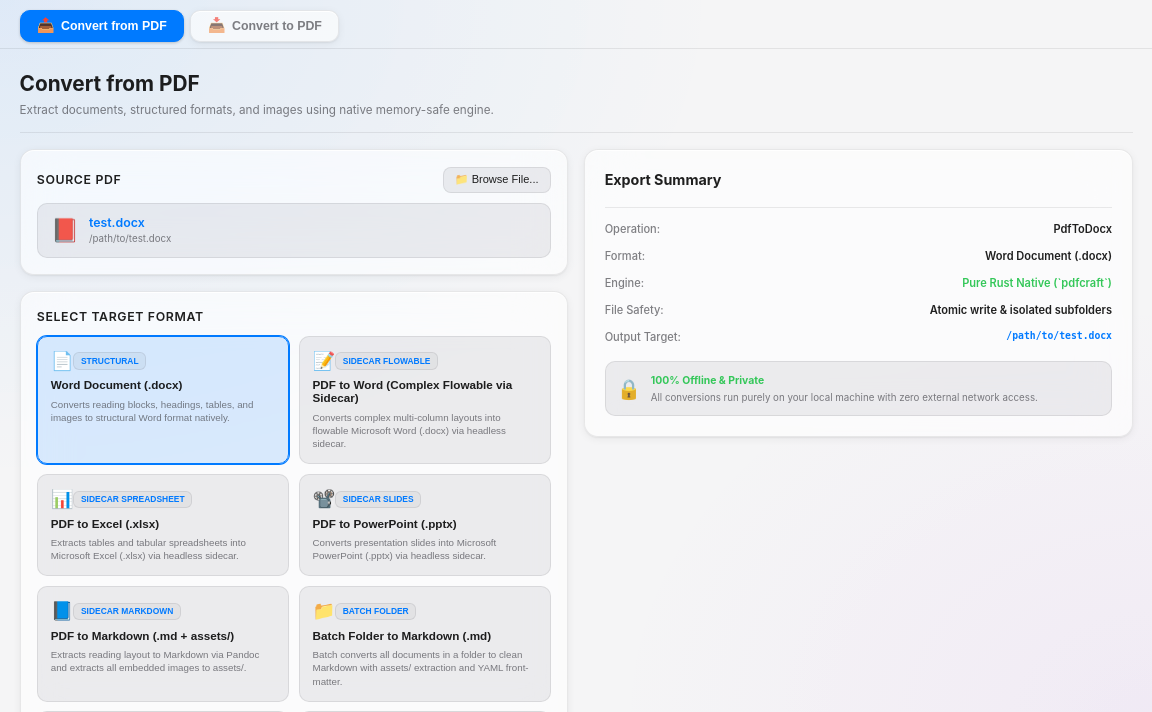
Test case: ConvertView tab container › switches tabs on click
The image size is (1152, 712).
What coordinates should you click on to do the following:
click the tab "📥 Convert to PDF"
I would click on:
 (265, 26)
Its box is [190,10,339,42].
(page scrolled)
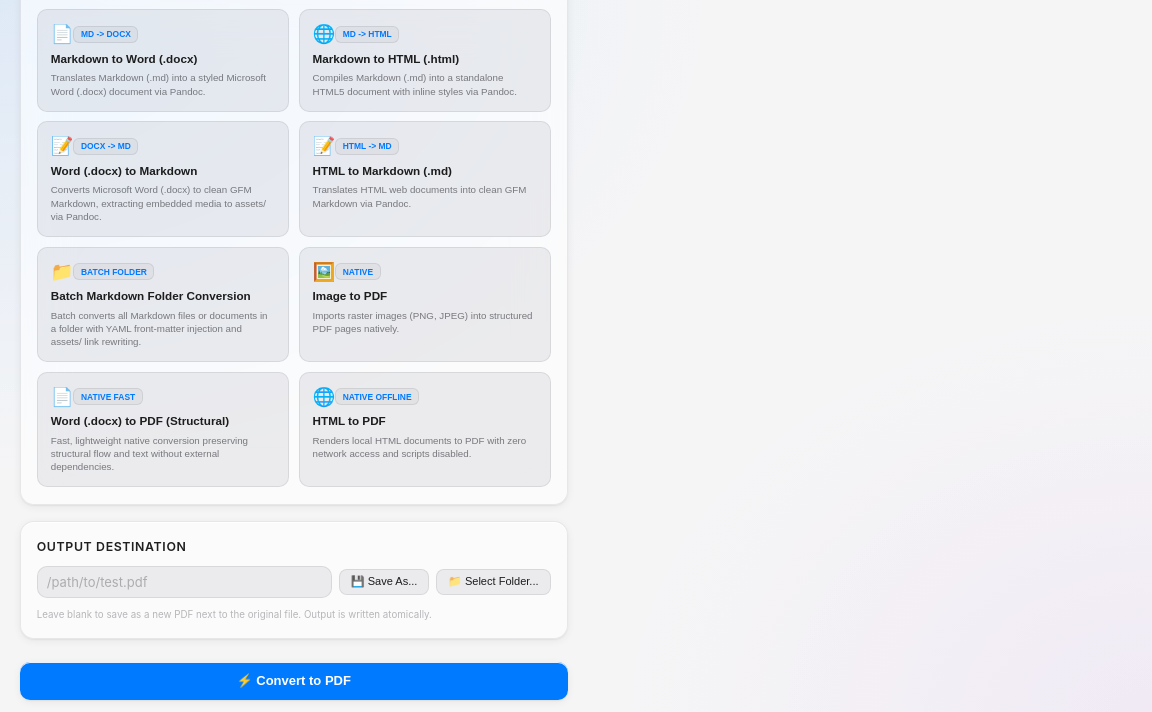
Expected: the button "Word (.docx) to PDF" is shown, [37,372,289,487]
